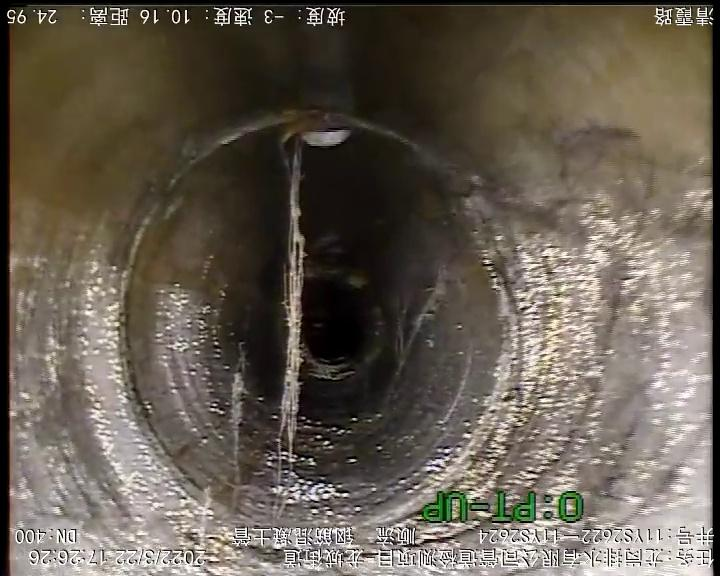SG: (276, 123, 338, 486), (230, 342, 250, 504)
